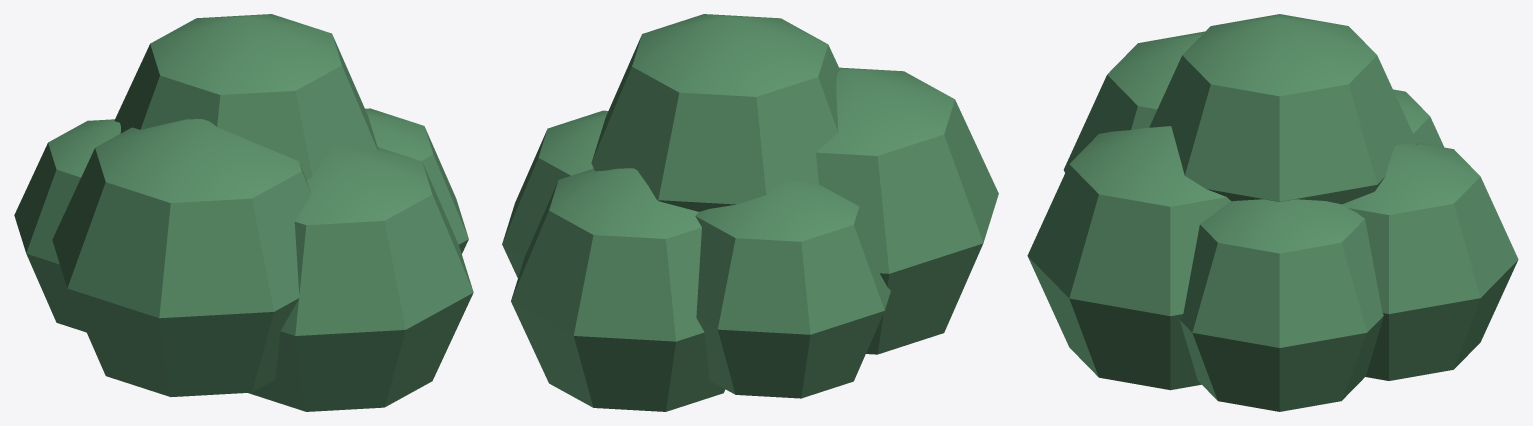
File: landscape.shrub.size_3.glb
3 renders of one model, left to right at view 1: azimuth 30°, elevation 25°; view 2: azimuth 150°, elevation 25°; view 3: azimuth 270°, elevation 25°, orthographic. The views are drawn at different scales.
Visible parts, largest first — view 1: main__foliage_dark; view 2: main__foliage_dark; view 3: main__foliage_dark.
Part boxes in pixels (left/top/right/bottom): main__foliage_dark: left=14, top=14, right=473, bottom=411; main__foliage_dark: left=502, top=14, right=998, bottom=411; main__foliage_dark: left=1027, top=14, right=1518, bottom=411.
Bounding box in the file's own units: 1.67 × 1.35 × 1.71.
